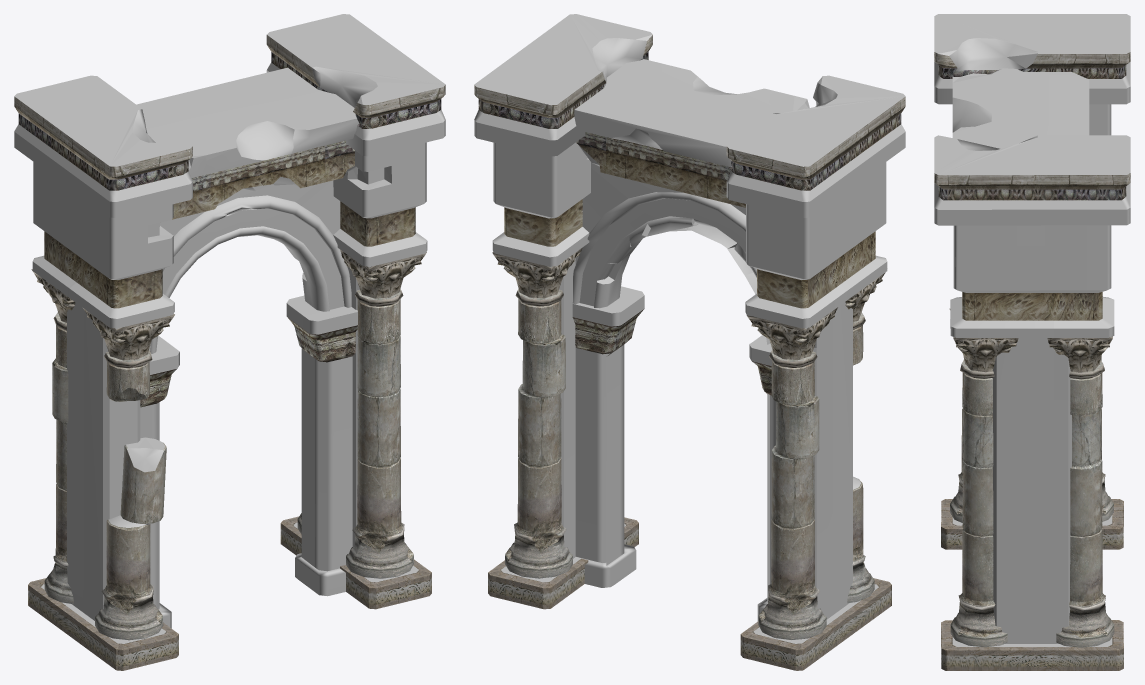
Rendered from Door2.fbx.
The picture shows the model from 3 angles, left to right: view 1: azimuth 30°, elevation 25°; view 2: azimuth 150°, elevation 25°; view 3: azimuth 270°, elevation 25°; orthographic projection.
Visible parts, largest first — view 1: LV_Nigratruis_CastleArch01_SM_SCY; view 2: LV_Nigratruis_CastleArch01_SM_SCY; view 3: LV_Nigratruis_CastleArch01_SM_SCY.
Part boxes in pixels (<box>): LV_Nigratruis_CastleArch01_SM_SCY: <box>14,14,445,670</box>; LV_Nigratruis_CastleArch01_SM_SCY: <box>474,14,905,670</box>; LV_Nigratruis_CastleArch01_SM_SCY: <box>934,14,1130,670</box>.
Size of the model in its own units: 2.34 by 3.38 by 1.2.
